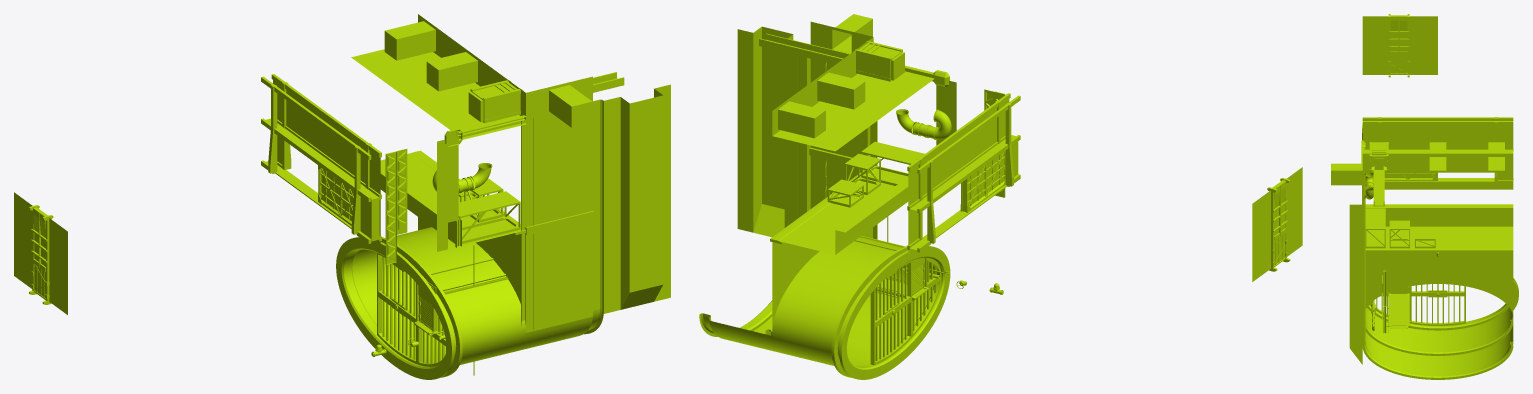
The model's file is WaterWork_Unity.fbx.
3 views of the same model, side by side, from view 1: azimuth 30°, elevation 25°; view 2: azimuth 150°, elevation 25°; view 3: azimuth 270°, elevation 25° (orthographic). The views are drawn at different scales.
Visible parts, largest first — view 1: BaseWallCyl, BaseWallDrainUp, BaseWallUp, RingTransistor, BaseWallBot, BaseWallSideSewer, BaseWallDrainBot, BaseWallCeiling, BigDoorFrameWall, BaseWallDoorFrame_low, BigDoorFrameBar, BaseWallSewer (+26 smaller); view 2: BaseWallCyl, BaseWallDrainUp, RingTransistor, BaseWallDrainBot, BaseWallSideSewer, BaseWallCeiling, BigDoorFrameWall, BaseWallFloor, BaseWallDoorFrame_low, BigDoorFrameBar, BaseWallSewer, BigDoorFramePillar (+20 smaller); view 3: BigDoorFrameWall, BaseWallDoorFrame_low, BaseWallSideCyl, BaseWallSideSewer, BaseWallCyl, BaseWallFloor, BaseWallCylHalf, BaseWallSideFiller, BaseWallSideStep, BaseWallDrainUp, BigDoorFrameBar, BaseBoardLargeRing (+29 smaller).
Part boxes in pixels (x1,y1,x2,y2): BaseWallCyl: [352, 227, 525, 364]; BaseWallDrainUp: [604, 84, 670, 213]; BaseWallUp: [526, 103, 592, 226]; RingTransistor: [336, 237, 462, 379]; BaseWallBot: [526, 241, 592, 332]; BaseWallSideSewer: [384, 14, 525, 122]; BaseWallDrainBot: [603, 222, 670, 313]; BaseWallCeiling: [351, 49, 525, 135]; BigDoorFrameWall: [273, 80, 380, 250]; BaseWallDoorFrame_low: [14, 192, 67, 314]; BigDoorFrameBar: [261, 74, 381, 243]; BaseWallSewer: [526, 76, 592, 127]; BaseWallCyl: [772, 237, 934, 366]; BaseWallDrainUp: [737, 26, 798, 147]; RingTransistor: [831, 246, 950, 379]; BaseWallDrainBot: [737, 155, 798, 237]; BaseWallSideSewer: [772, 37, 904, 138]; BaseWallCeiling: [772, 71, 933, 151]; BigDoorFrameWall: [908, 99, 1009, 258]; BaseWallFloor: [779, 169, 907, 254]; BaseWallDoorFrame_low: [1252, 167, 1302, 281]; BigDoorFrameBar: [907, 93, 1020, 252]; BaseWallSewer: [810, 14, 872, 53]; BigDoorFramePillar: [916, 100, 1013, 243]; BigDoorFrameWall: [1363, 125, 1513, 189]; BaseWallDoorFrame_low: [1362, 16, 1437, 74]; BaseWallSideCyl: [1370, 268, 1513, 315]; BaseWallSideSewer: [1362, 142, 1513, 172]; BaseWallCyl: [1365, 307, 1513, 350]; BaseWallFloor: [1366, 226, 1513, 247]; BaseWallCylHalf: [1365, 324, 1513, 373]; BaseWallSideFiller: [1370, 252, 1513, 268]; BaseWallSideStep: [1366, 208, 1513, 226]; BaseWallDrainUp: [1349, 204, 1362, 293]; BigDoorFrameBar: [1362, 117, 1513, 183]; BaseBoardLargeRing: [1362, 341, 1513, 379].
Bounding box in the file's own units: 4530 × 2087 × 1736.
